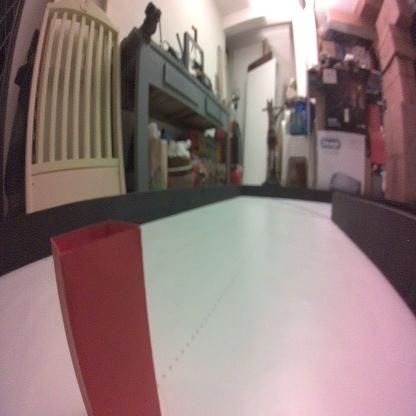red: (48, 218, 163, 416)
